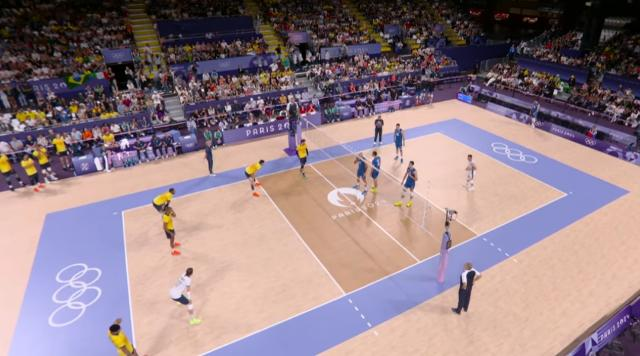Levantador: (296, 138, 308, 178)
Libero: (167, 269, 195, 327), (466, 156, 476, 190)
